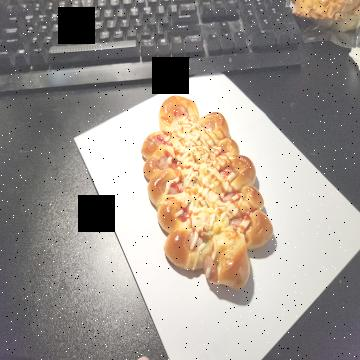pizza_bread: (138, 96, 275, 290)
